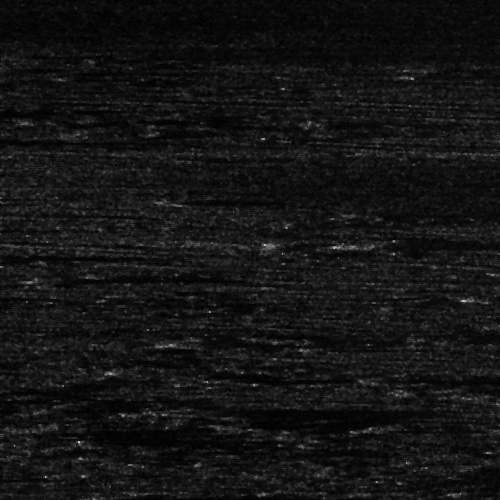object: (320, 239, 393, 248), (325, 373, 388, 382), (93, 492, 134, 500), (27, 275, 90, 280), (157, 198, 210, 203), (445, 296, 486, 301), (163, 407, 194, 412), (0, 251, 14, 260)
shadow: (113, 492, 342, 500), (0, 251, 160, 260), (357, 373, 500, 382), (357, 239, 500, 248), (59, 275, 235, 280), (0, 137, 160, 142), (0, 0, 386, 2), (184, 198, 308, 203), (179, 407, 238, 412), (465, 296, 500, 301)
